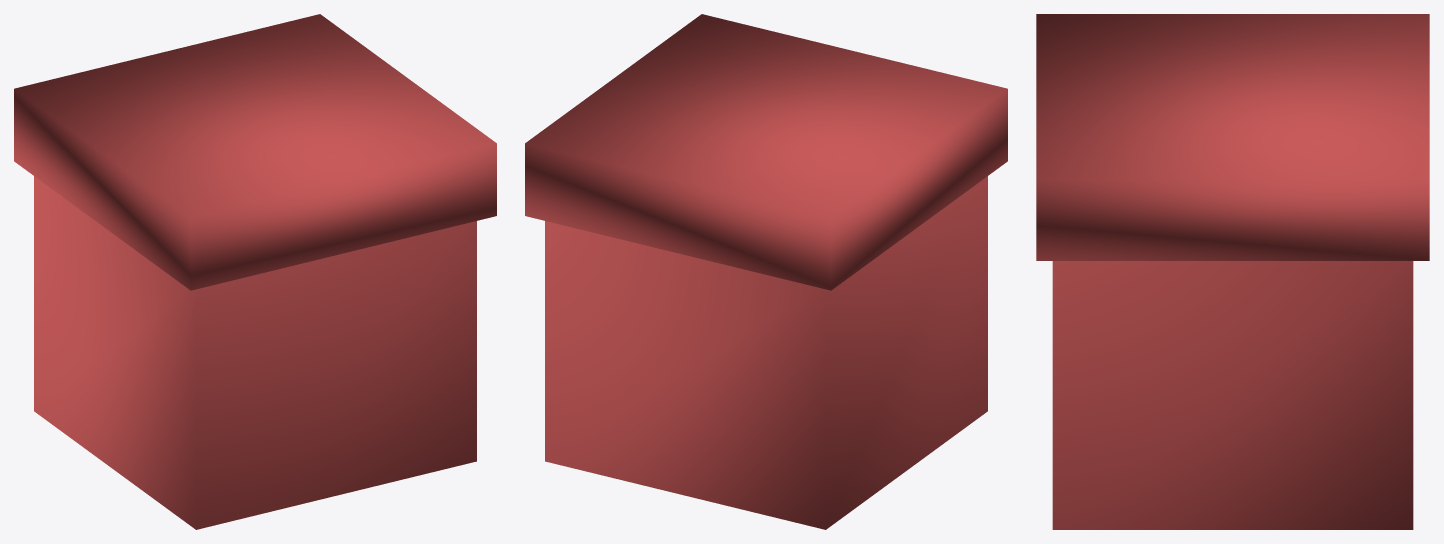
Rendered from Present1.fbx.
3 renders of one model, left to right at view 1: azimuth 30°, elevation 25°; view 2: azimuth 150°, elevation 25°; view 3: azimuth 270°, elevation 25°, orthographic. The views are drawn at different scales.
Visible parts, largest first — view 1: Present1:Box001; view 2: Present1:Box001; view 3: Present1:Box001.
Boxes of the visible parts, <box> form: Present1:Box001: <box>14,14,496,529</box>; Present1:Box001: <box>525,14,1007,529</box>; Present1:Box001: <box>1036,14,1429,529</box>.
Bounding box in the file's own units: 39.37 × 39.37 × 39.37.
